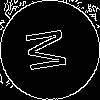M: (25, 25, 77, 74)
